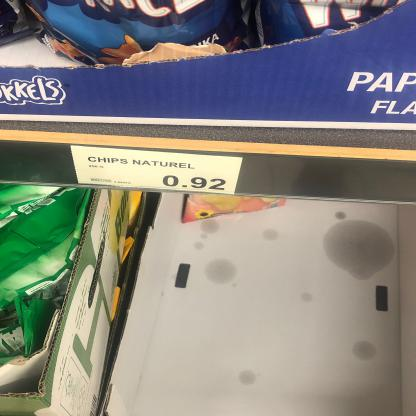prtg: (72, 146, 244, 196)
